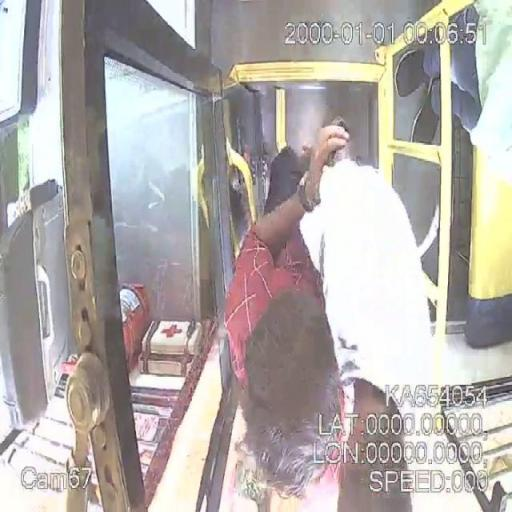persona: (296, 117, 440, 510), (222, 122, 352, 510)
